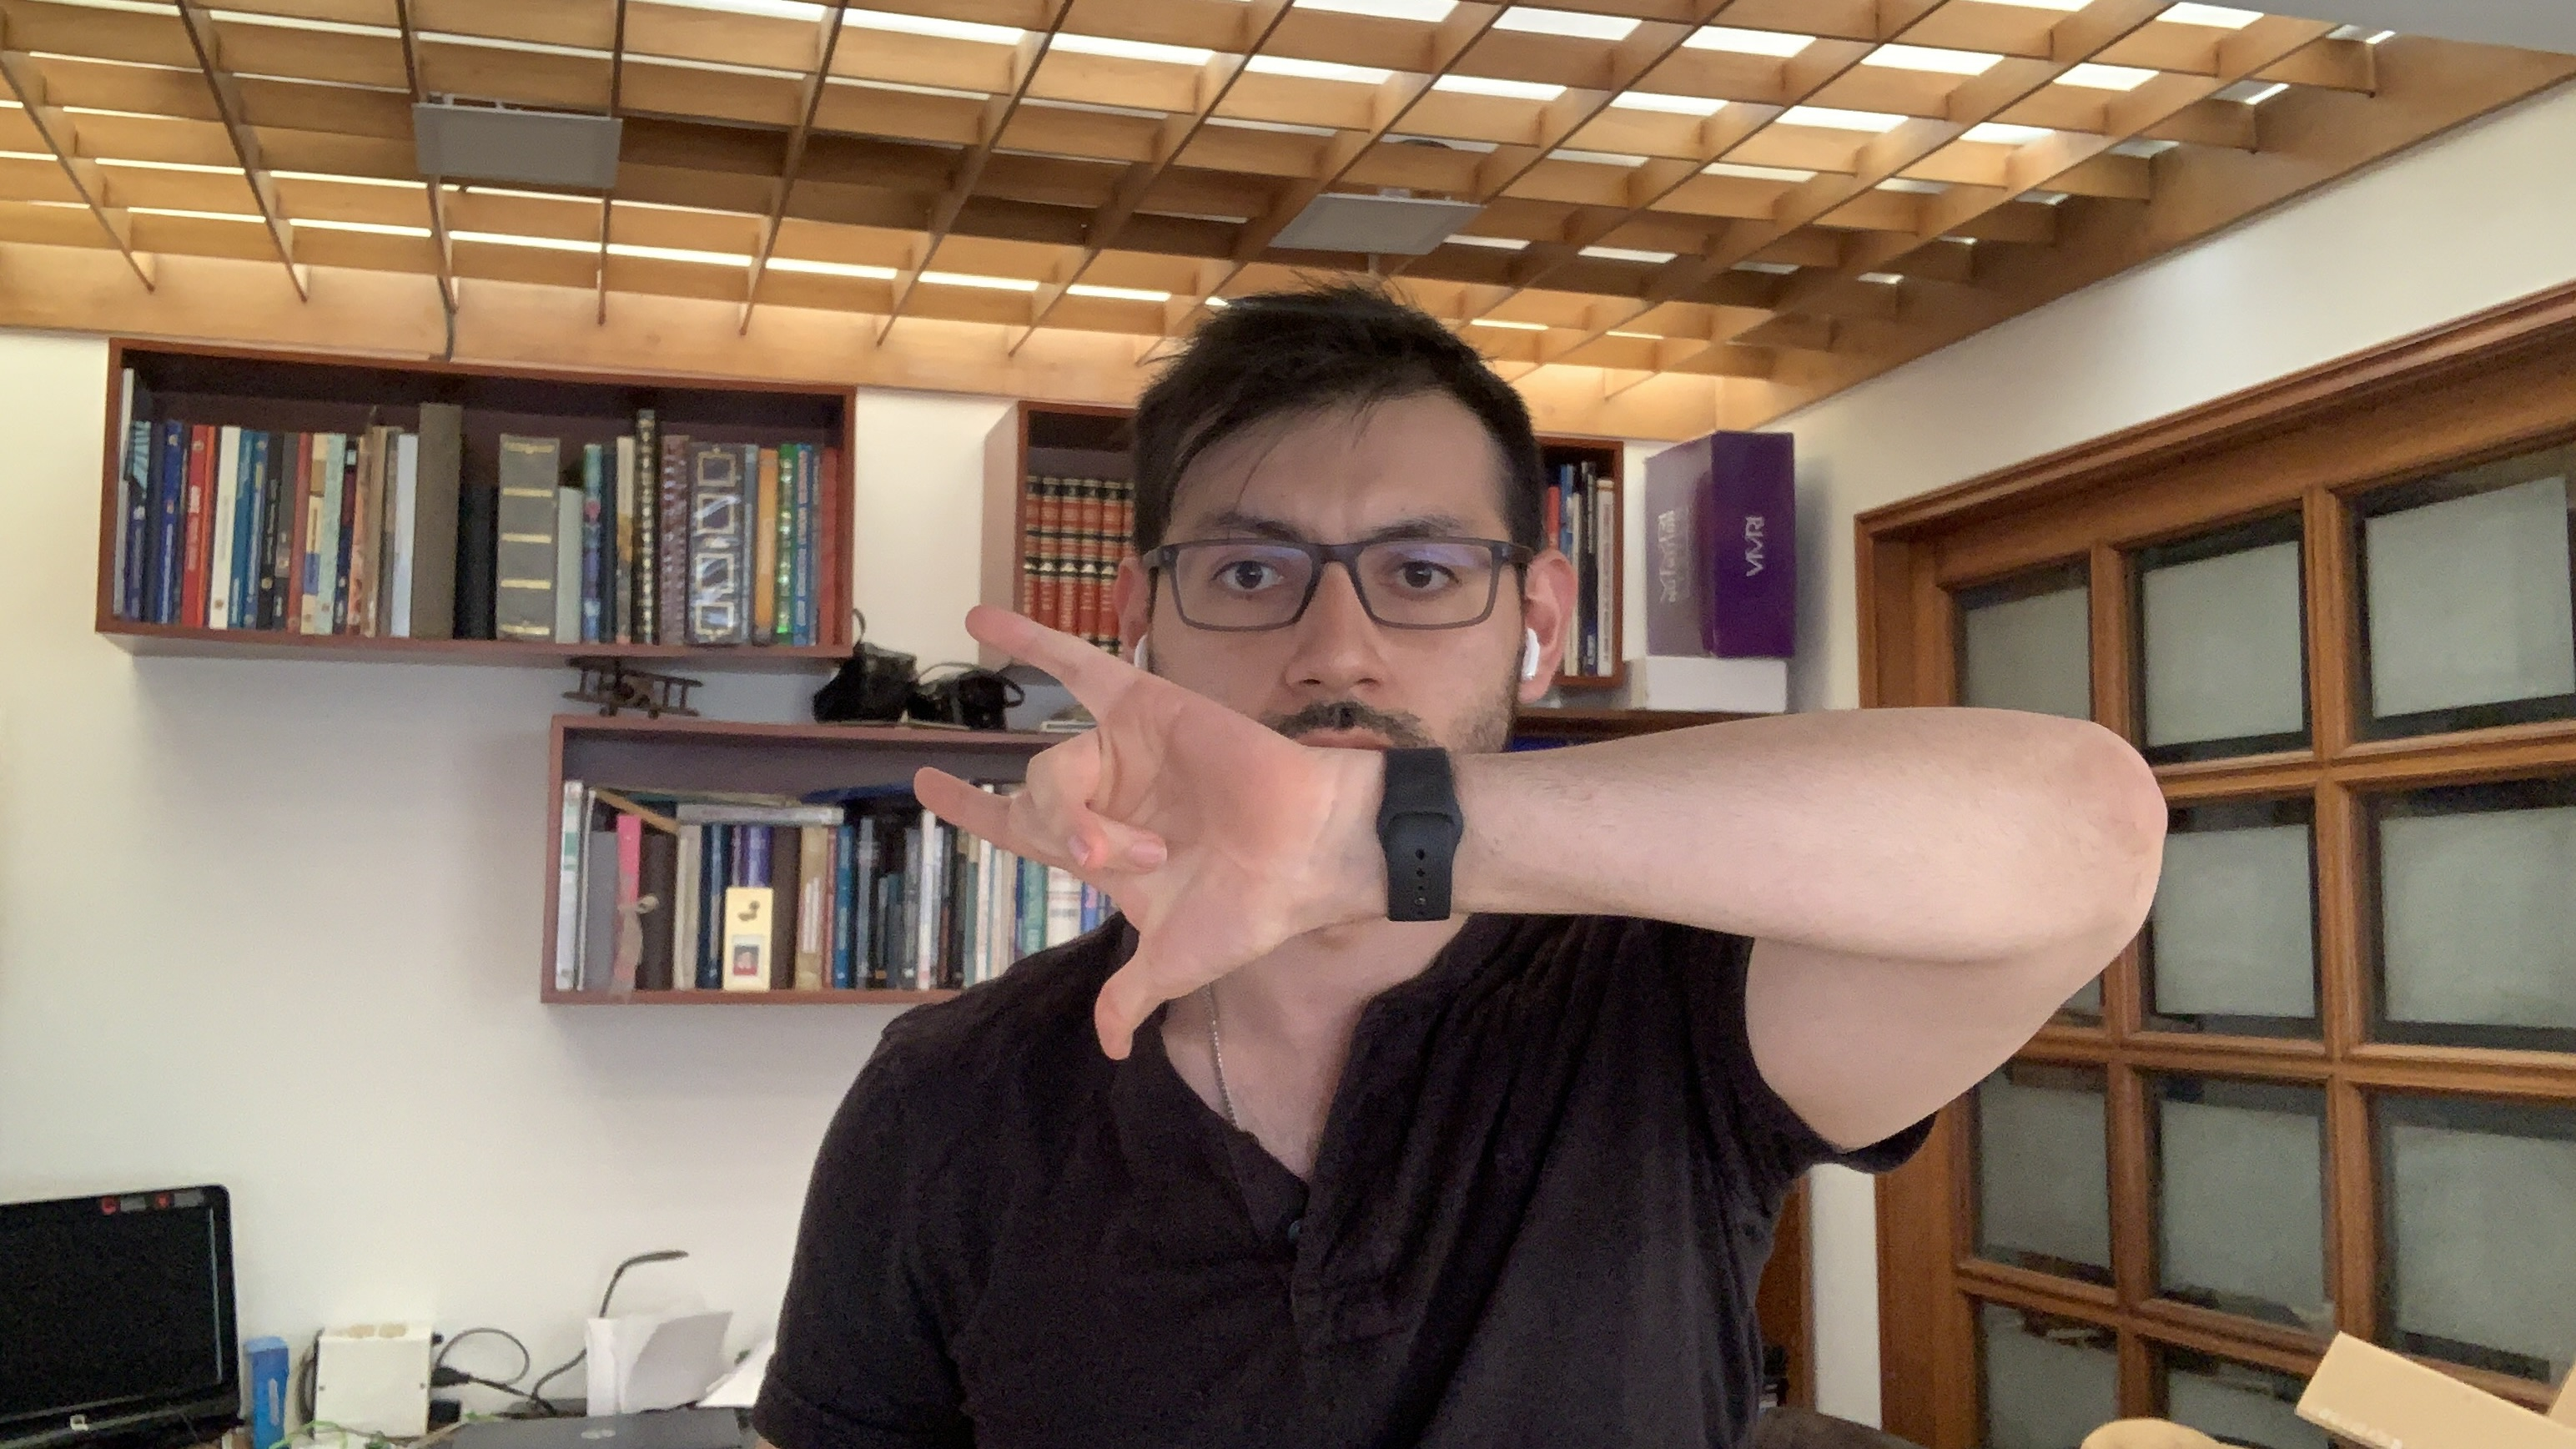I Love You: (902, 598, 1332, 1069)
